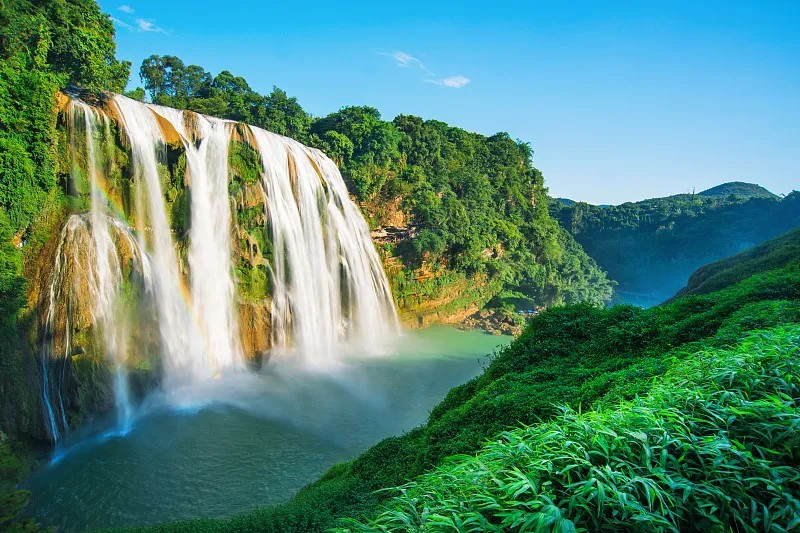Huangguoshu: (50, 94, 397, 438)
